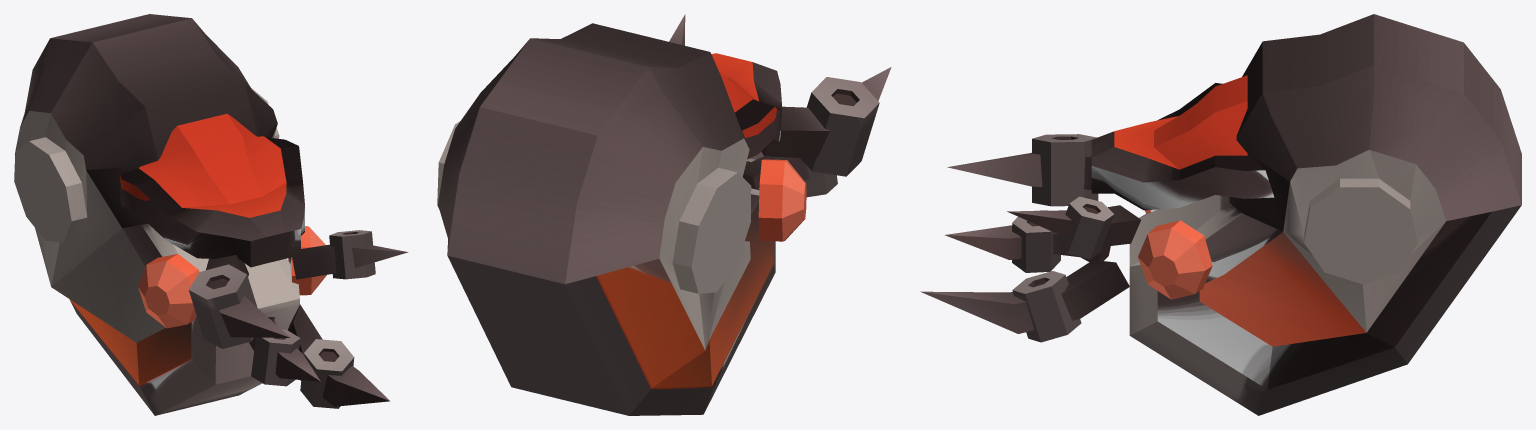
File: slug.fbx
3 renders of one model, left to right at view 1: azimuth 30°, elevation 25°; view 2: azimuth 150°, elevation 25°; view 3: azimuth 270°, elevation 25°, orthographic. The views are drawn at different scales.
Parts seen in each view (by area): view 1: Cylinder, Cube.001, Cone.002, Cylinder.004; view 2: Cylinder, Cone.002, Cube.001, Cylinder.004; view 3: Cylinder, Cone.002, Cube.001, Cylinder.004.
Part boxes in pixels (x1,y1,x2,y2): Cylinder: (14,14,299,415); Cube.001: (120,113,304,267); Cone.002: (189,230,408,408); Cylinder.004: (138,226,326,328); Cylinder: (437,23,775,415); Cone.002: (669,14,891,197); Cube.001: (711,53,781,159); Cylinder.004: (758,159,806,241); Cylinder: (1129,14,1521,415); Cone.002: (920,134,1140,342); Cube.001: (1091,75,1274,210); Cylinder.004: (1138,209,1212,299).
Size of the model in its own units: 55.76 by 80.78 by 124.
